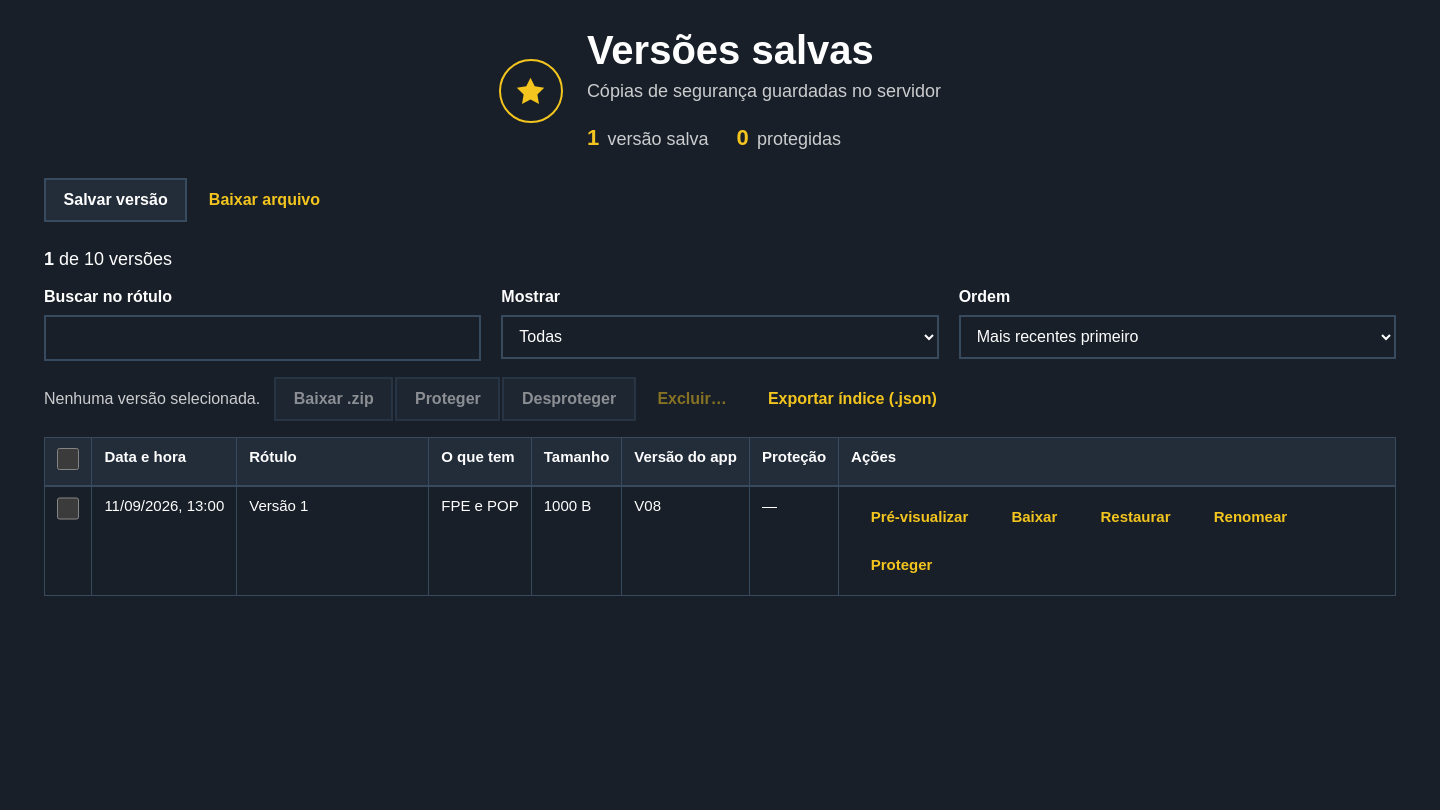
Test: proteger e renomear › erro do servidor ao proteger aparece como alerta e nada muda na tela
Click the button with aria-label "Proteger:" at (902, 565), box top-left (851, 543), bottom-right (952, 587)
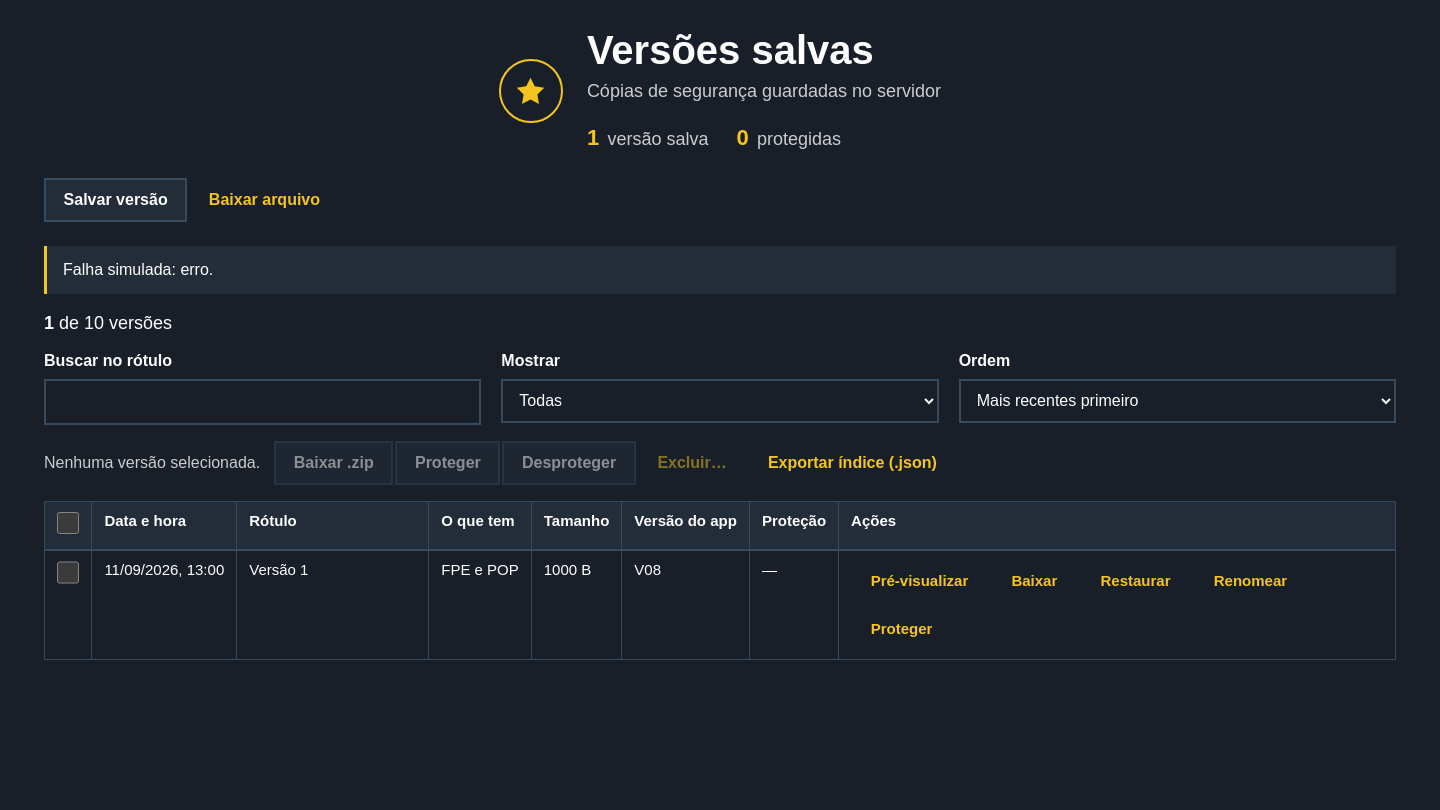
Expected: the message "Falha simulada: erro." is shown, top-left (44, 246), bottom-right (1396, 294)
